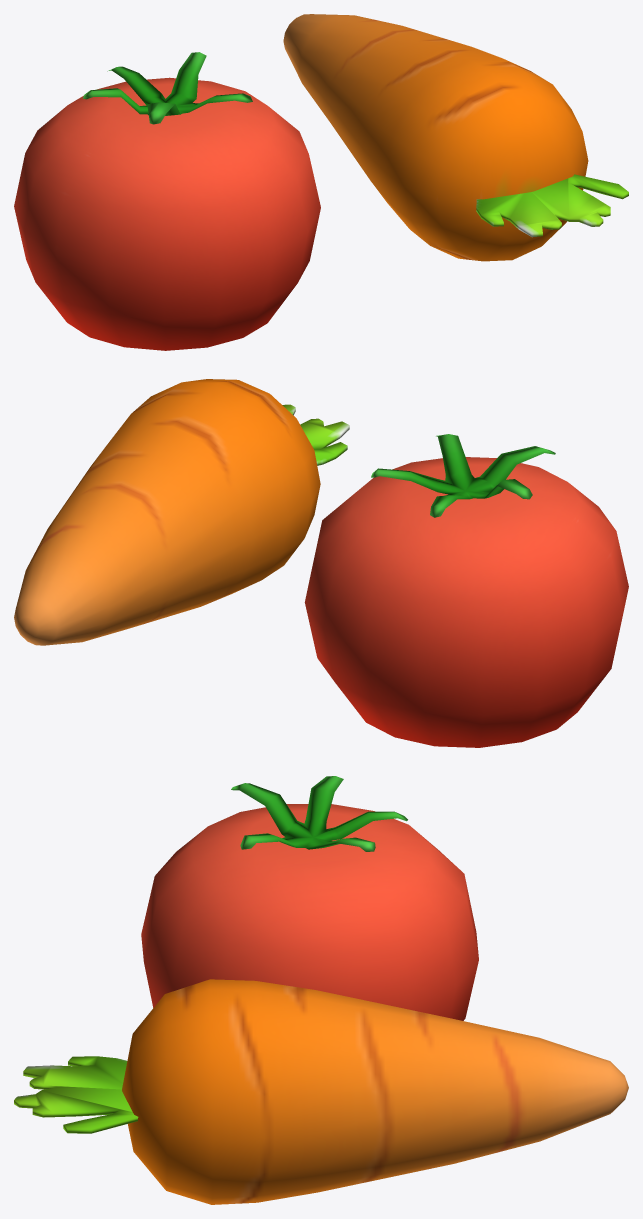
The model's file is Carrot_Tomato.fbx.
3 renders of one model, top to bottom at view 1: azimuth 30°, elevation 25°; view 2: azimuth 150°, elevation 25°; view 3: azimuth 270°, elevation 25°, orthographic. The views are drawn at different scales.
Parts seen in each view (by area): view 1: Tomato, Carrot; view 2: Tomato, Carrot; view 3: Carrot, Tomato.
Boxes of the visible parts, <box> form: Tomato: <box>14,52,320,350</box>; Carrot: <box>283,14,628,261</box>; Tomato: <box>304,434,628,747</box>; Carrot: <box>14,379,349,645</box>; Carrot: <box>14,979,628,1204</box>; Tomato: <box>141,776,478,1020</box>.
Bounding box in the file's own units: 192 × 89.16 × 184.
